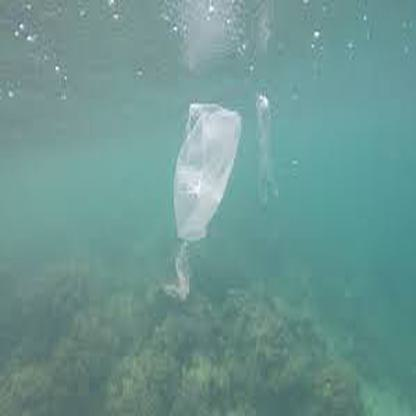plastic bag: (1, 4, 416, 416), (159, 97, 238, 299)
